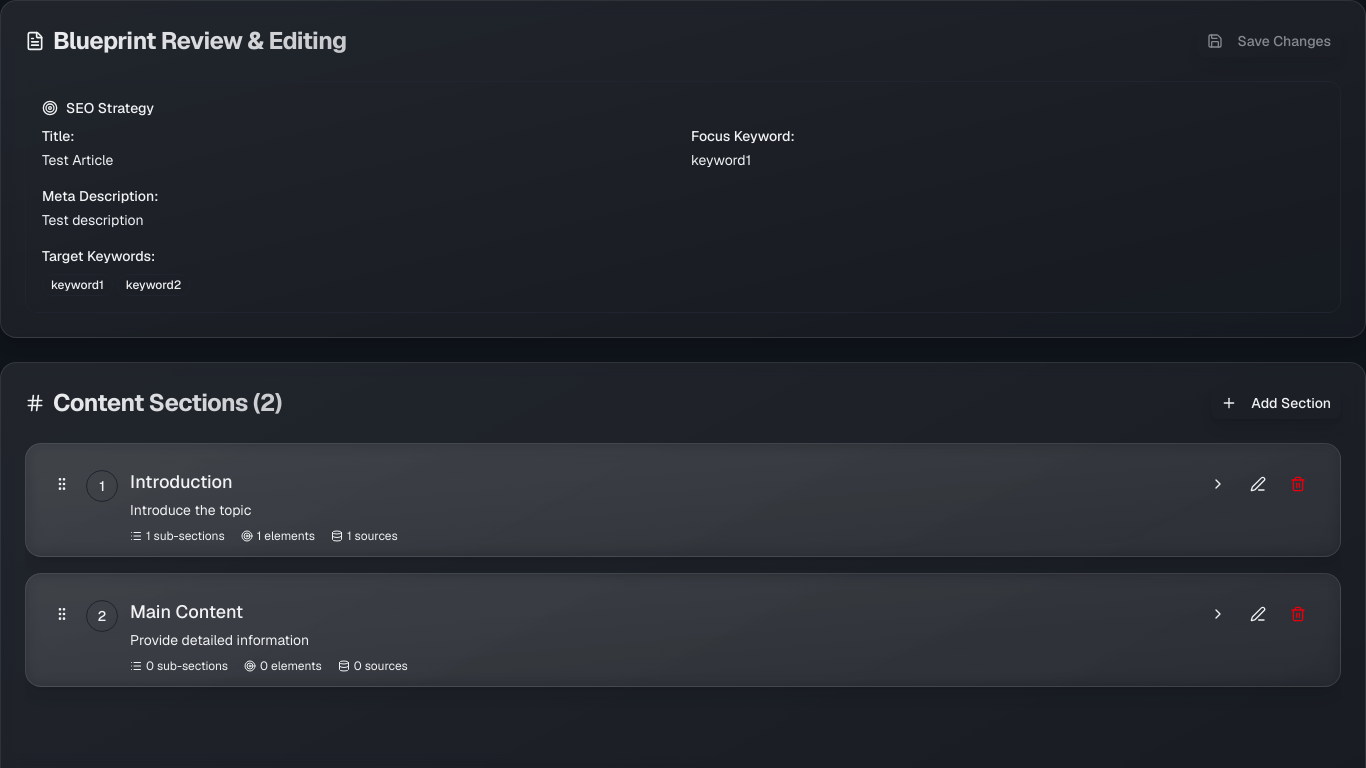
it: BlueprintReview › opens add section dialog when add button is clicked
The image size is (1366, 768).
Click the button "Add Section" at (1276, 403), box 1211,387 -> 1341,419
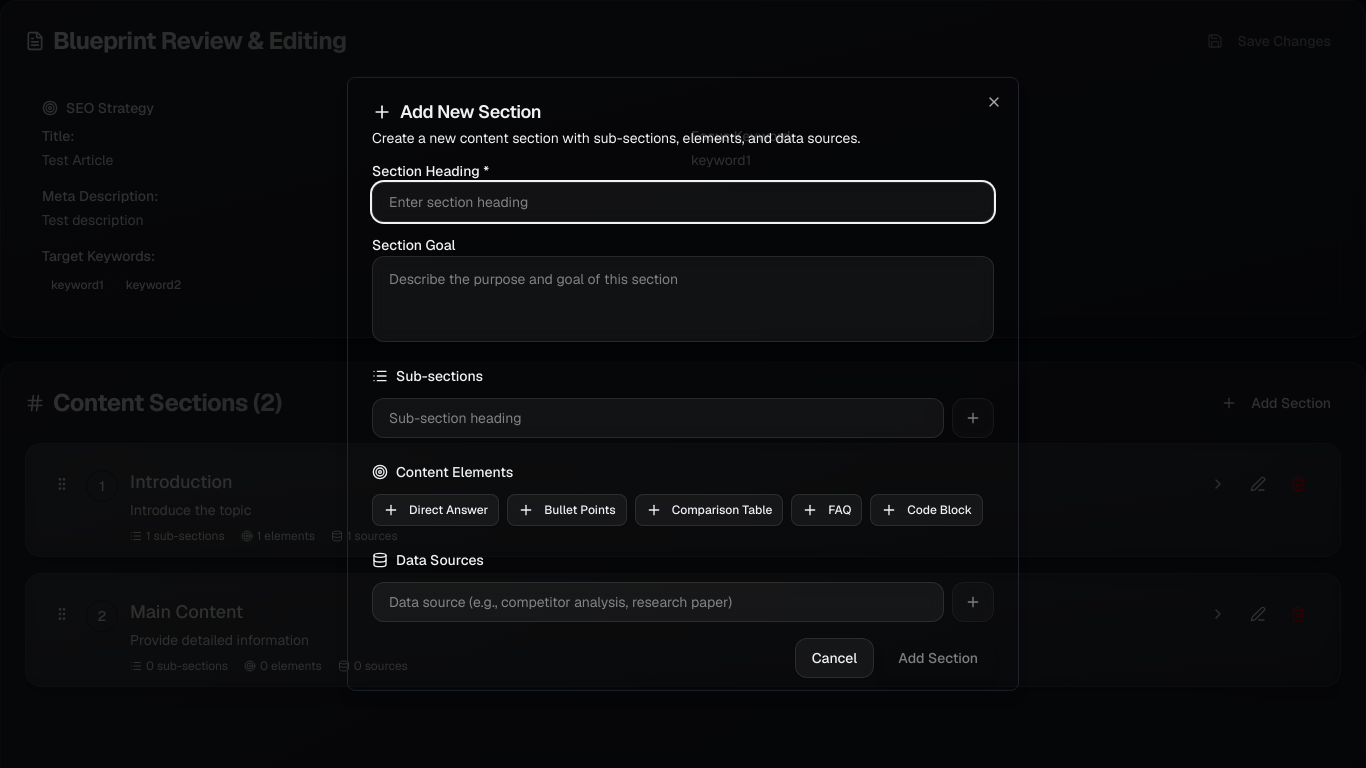
Check: the heading "Add New Section" is shown, box 372,100 -> 541,123
Check: the field labelled "Section Heading *" is shown, box 372,182 -> 994,222
